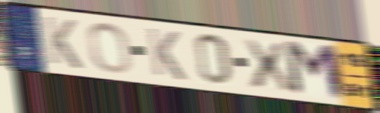0: (193, 31, 234, 87)
K: (144, 26, 188, 83), (41, 14, 84, 72)
M: (281, 38, 350, 104)
O: (86, 21, 133, 75)
X: (239, 37, 297, 93)
